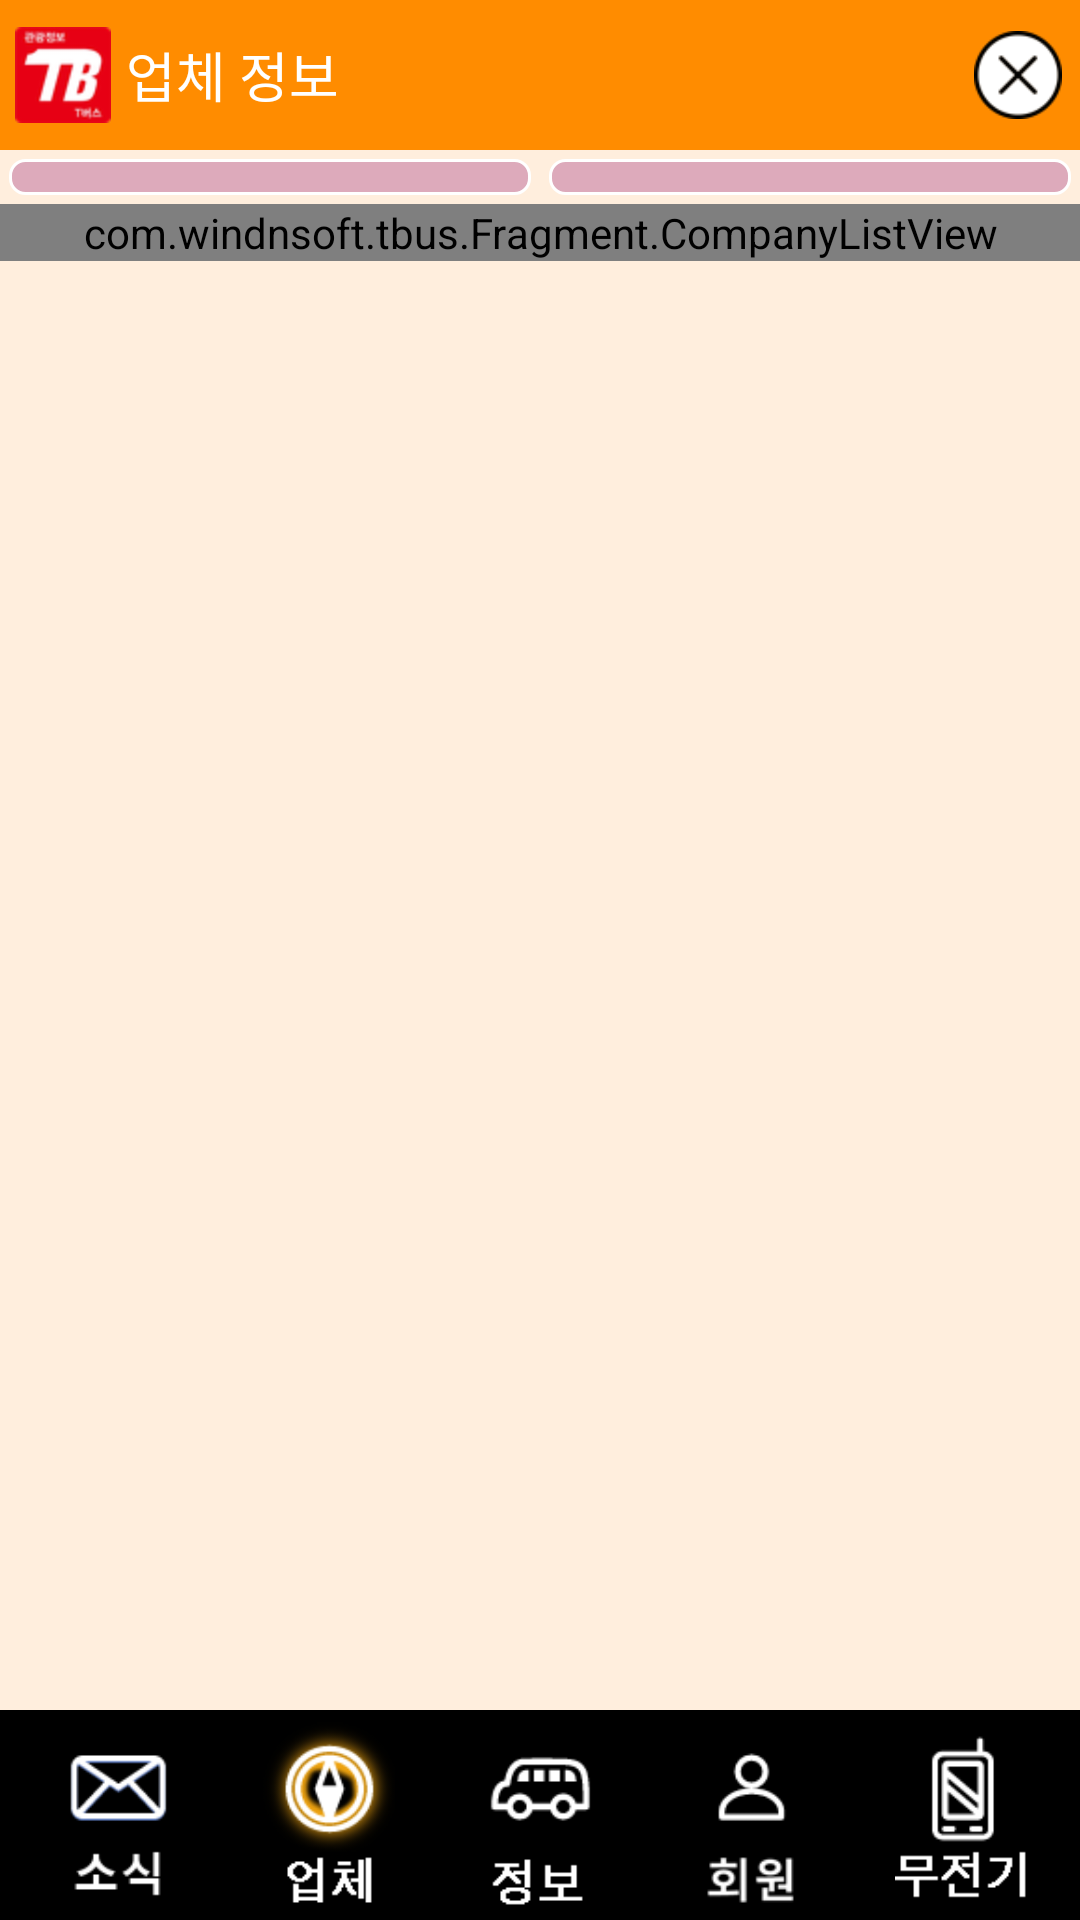

Point at icon controls on the screen. Image size 1080w x 1920h, points as (x,y).
xbutton: (1018,75)
